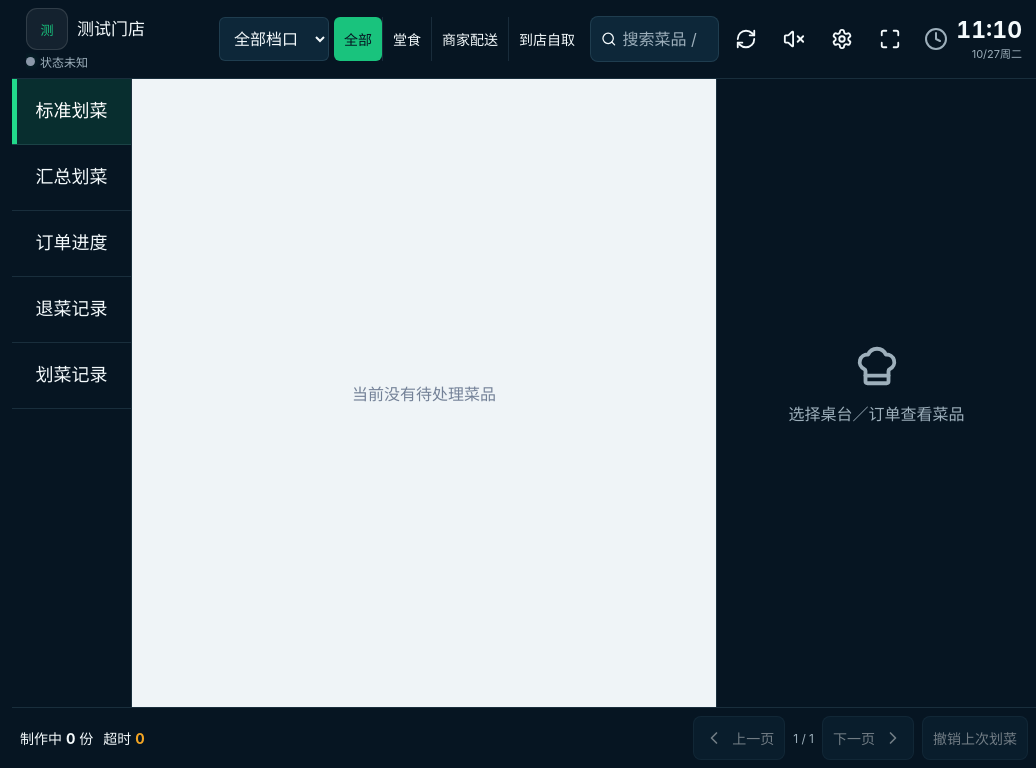
Test: KDS operational controls › opens an empty preparation queue when every effective portion is already made, while retaining full order progress
expect the element with class "kds-stats" shows "制作中 0": met, box [20,730,145,747]
Click the button "汇总划菜". click: (72, 178)
box: [12,145,131,211]
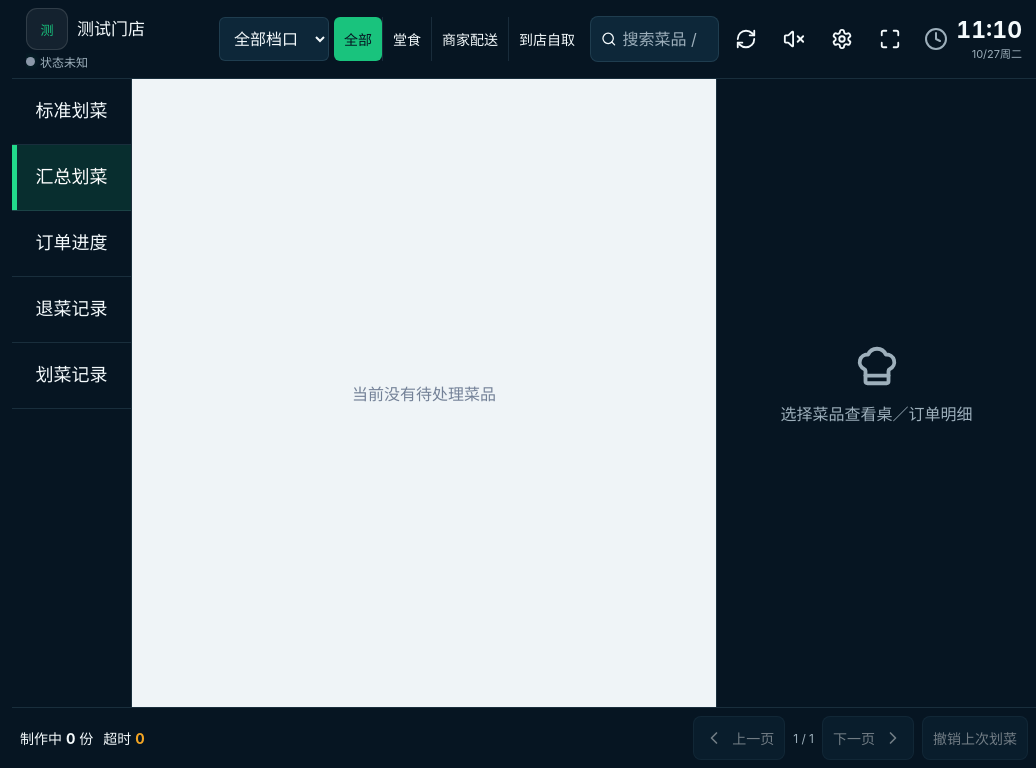
Click the button "订单进度". click: (72, 244)
box: [12,211,131,277]
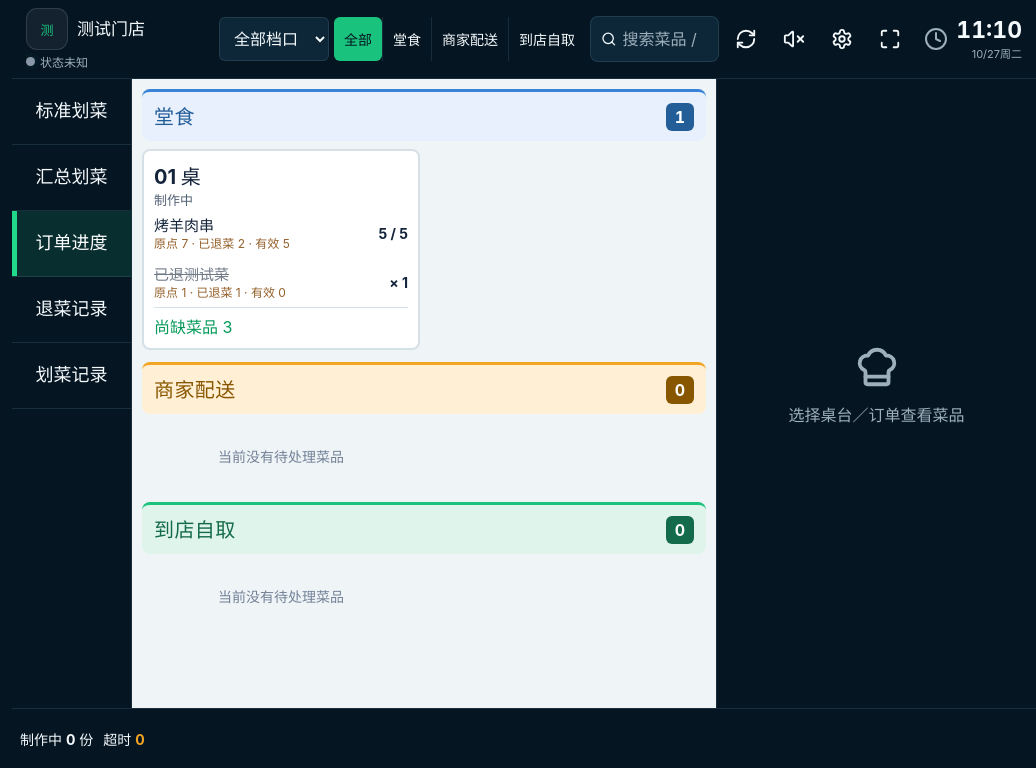
Click the button with class "kds-order-card". click: (281, 250)
box: [142,149,420,350]
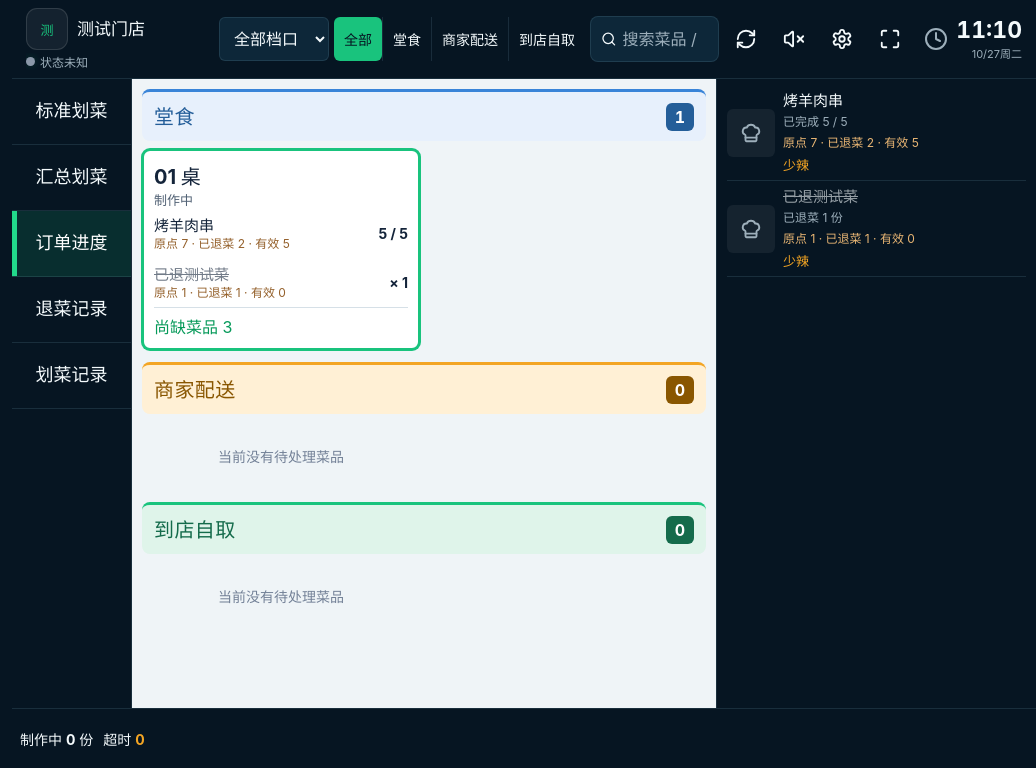
expect the element with class "kds-detail" shows "原点 7 · 已退菜 2 · 有效 5": met, box [783,135,919,150]
expect the element with class "kds-detail-card--returned" shows "已退测试菜": met, box [783,187,858,206]
